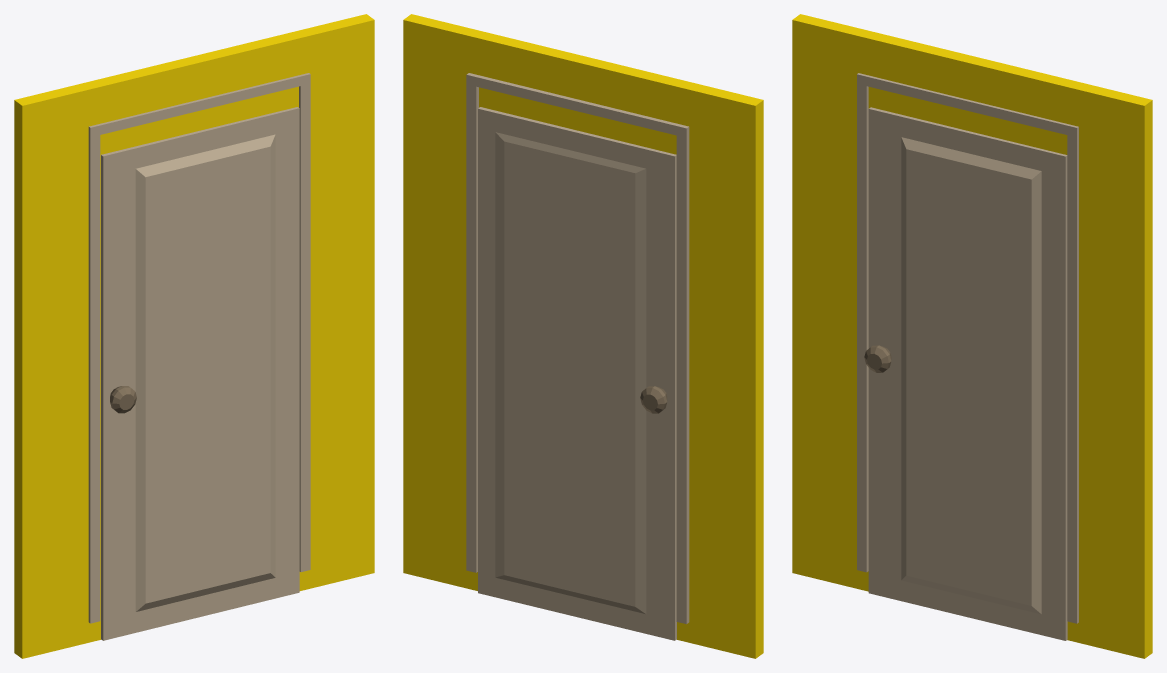
Rendered from Door edited.fbx.
3 renders of one model, left to right at view 1: azimuth 30°, elevation 25°; view 2: azimuth 150°, elevation 25°; view 3: azimuth 330°, elevation 25°, orthographic.
Parts seen in each view (by area): view 1: Door_02_A, Wall; view 2: Door_02_A, Wall; view 3: Door_02_A, Wall.
Part boxes in pixels (<box>): Door_02_A: <box>88,73,310,640</box>; Wall: <box>14,14,374,658</box>; Door_02_A: <box>466,73,689,640</box>; Wall: <box>403,14,763,658</box>; Door_02_A: <box>857,73,1078,640</box>; Wall: <box>792,14,1152,658</box>.
Bounding box in the file's own units: 100 × 150 × 15.24.
